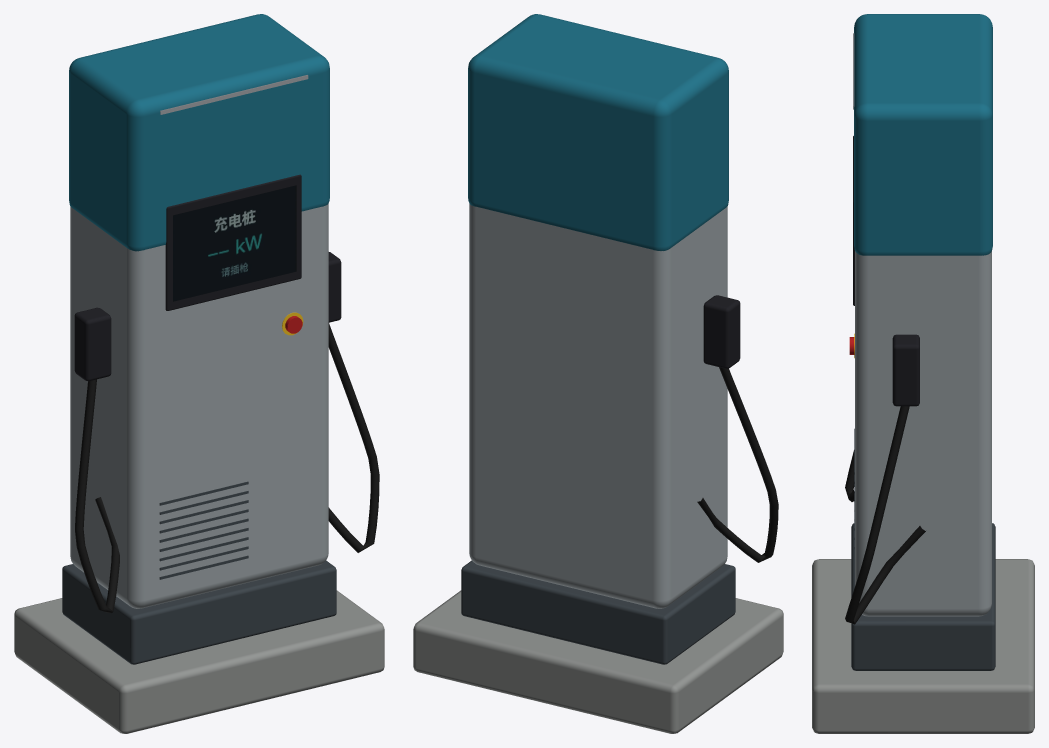
Rendered from ev-charger.glb.
3 renders of one model, left to right at view 1: azimuth 30°, elevation 25°; view 2: azimuth 150°, elevation 25°; view 3: azimuth 270°, elevation 25°, orthographic.
Visible parts, largest first — view 1: 充电桩; view 2: 充电桩; view 3: 充电桩.
Boxes of the visible parts, <box> form: 充电桩: <box>14,14,384,733</box>; 充电桩: <box>413,14,783,733</box>; 充电桩: <box>812,14,1034,733</box>.
Bounding box in the file's own units: 1.02 × 1.97 × 0.6501.
Materials: 5 (1 with a texture image).
